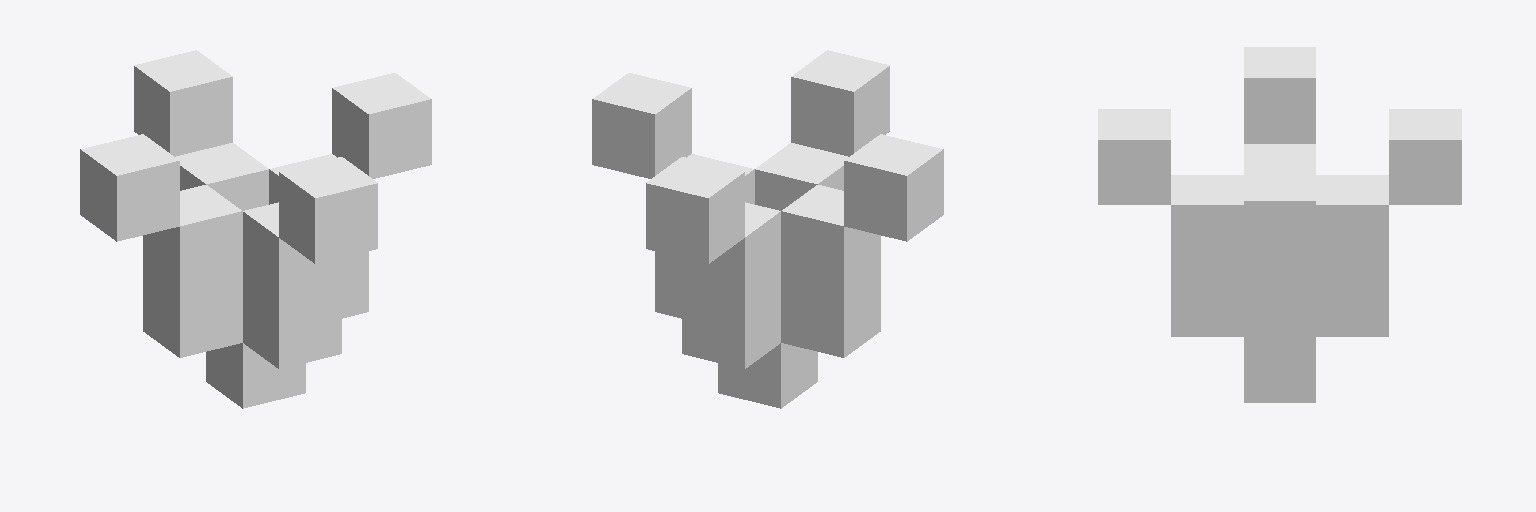
File: corn_small.obj
3 renders of one model, left to right at view 1: azimuth 30°, elevation 25°; view 2: azimuth 150°, elevation 25°; view 3: azimuth 270°, elevation 25°, orthographic.
Visible parts, largest first — view 1: object 1; view 2: object 1; view 3: object 1.
Boxes of the visible parts, x1,y1,x2,y2 form: object 1: [80, 50, 431, 408]; object 1: [592, 50, 943, 408]; object 1: [1098, 47, 1461, 402].
Size of the model in its own units: 0.5 by 0.4 by 0.5.